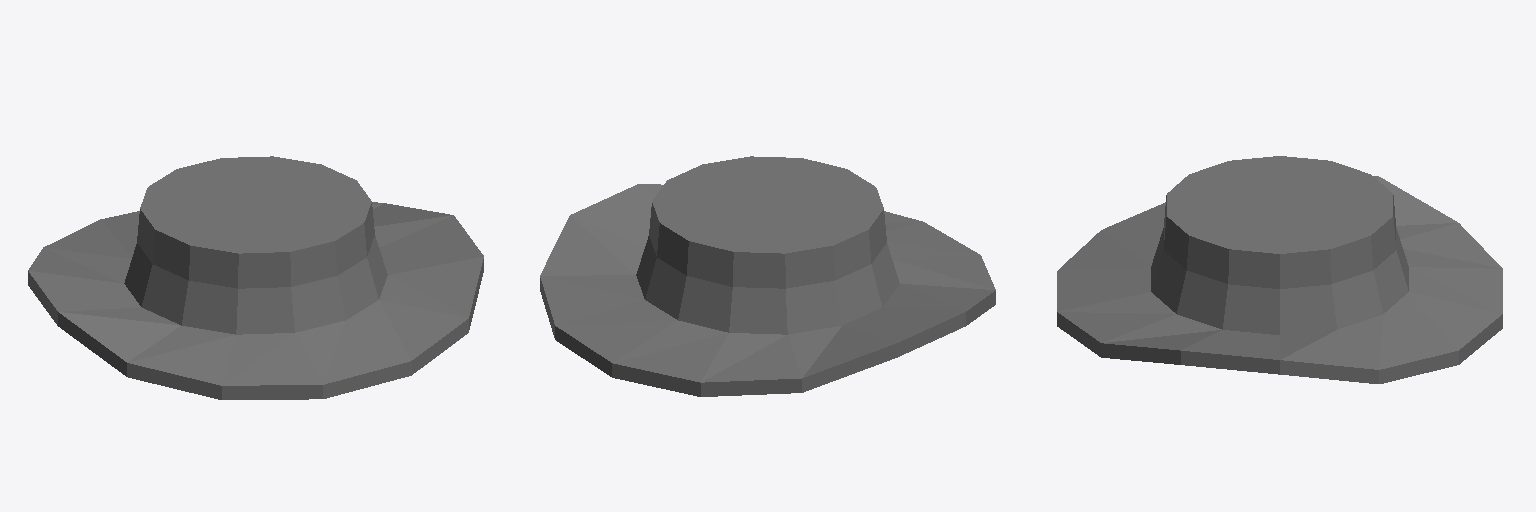
File: sm_cowboy_hat.obj
3 views of the same model, side by side, from view 1: azimuth 30°, elevation 25°; view 2: azimuth 150°, elevation 25°; view 3: azimuth 270°, elevation 25° (orthographic).
Visible parts, largest first — view 1: SM_Cowboy_Hat; view 2: SM_Cowboy_Hat; view 3: SM_Cowboy_Hat.
Boxes of the visible parts, x1,y1,x2,y2 form: SM_Cowboy_Hat: [28, 156, 483, 399]; SM_Cowboy_Hat: [540, 156, 995, 396]; SM_Cowboy_Hat: [1057, 156, 1502, 383].
Bounding box in the file's own units: 55.43 × 13.64 × 54.04.